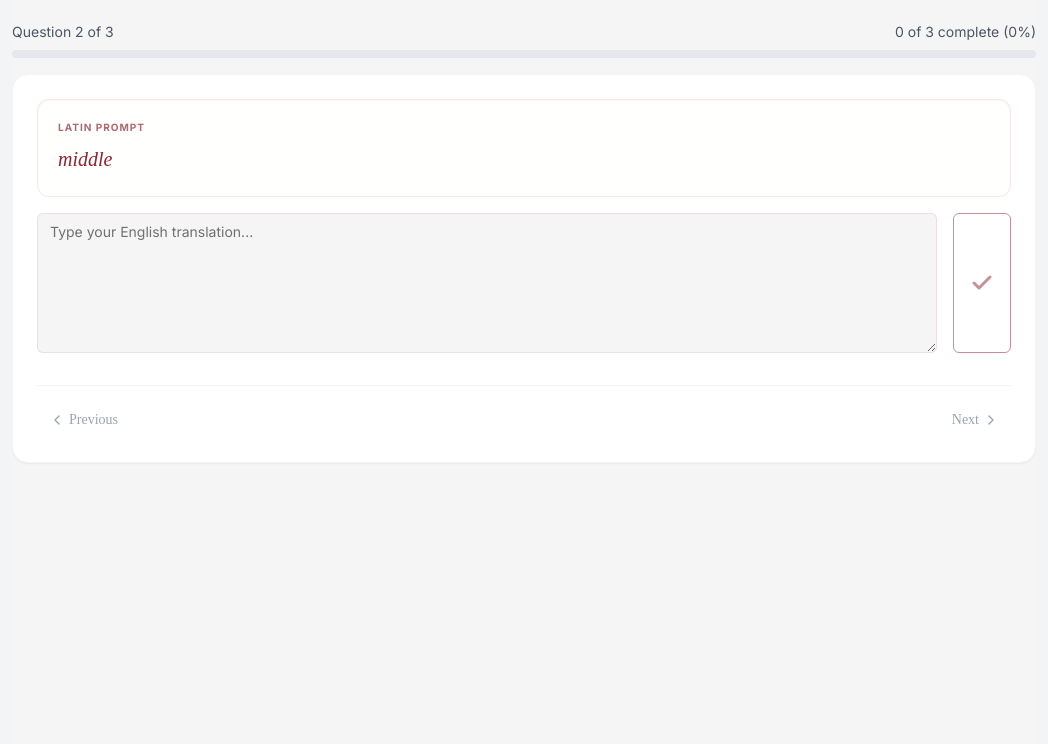
it: exercise start over flow › locks translation grading navigation and shows Start over at threshold
The image size is (1048, 744).
Expected: the button "Previous" is enabled, [37,402,130,438]
Expected: the button "Next" is enabled, [940,402,1011,438]
Type "wrong one" into the text box with placeholder "Type your English translation...". click: (487, 282)
box: [37,212,937,352]
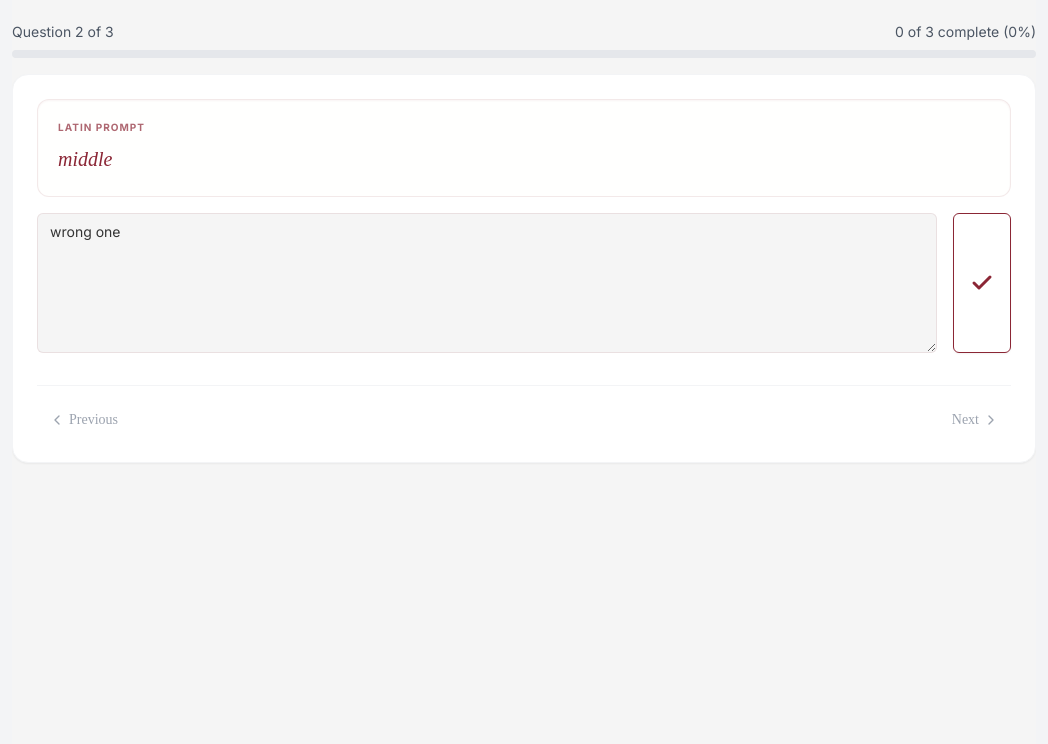
Click the button titled "Check Translation". click: (982, 282)
box: [953,212,1011,352]
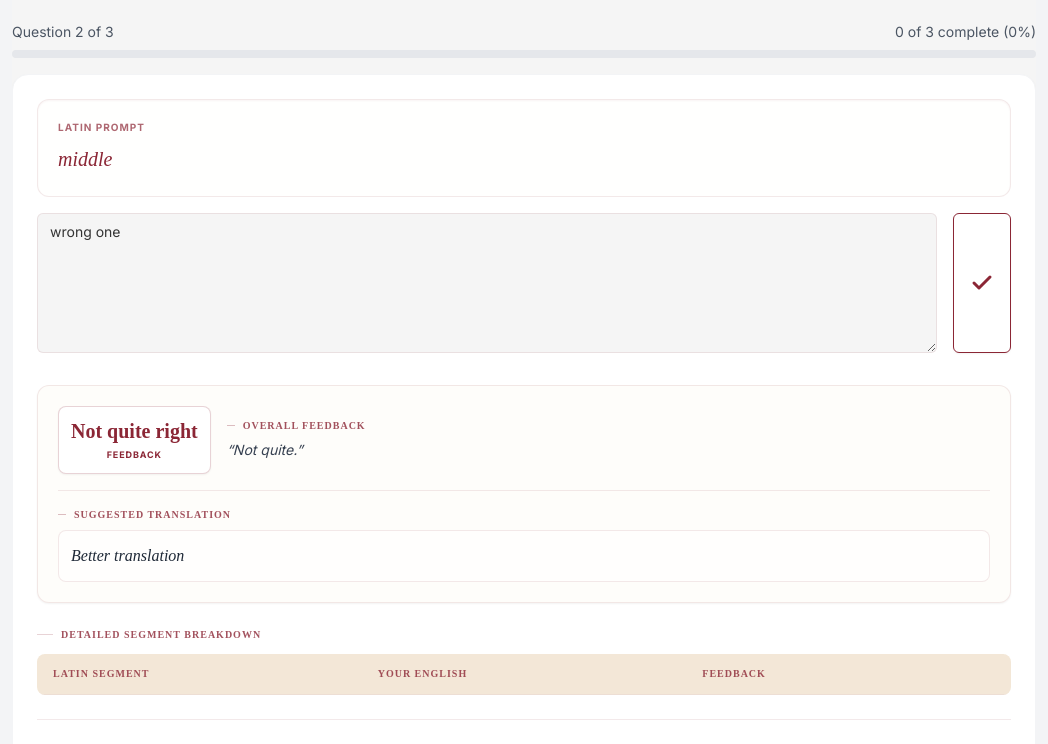
Expected: the text "Not quite right" is shown, [71,418,198,444]
Replace the text in the text box with placeholder "Type your English translation..." with "wrong two". click: (487, 282)
box: [37,212,937,352]
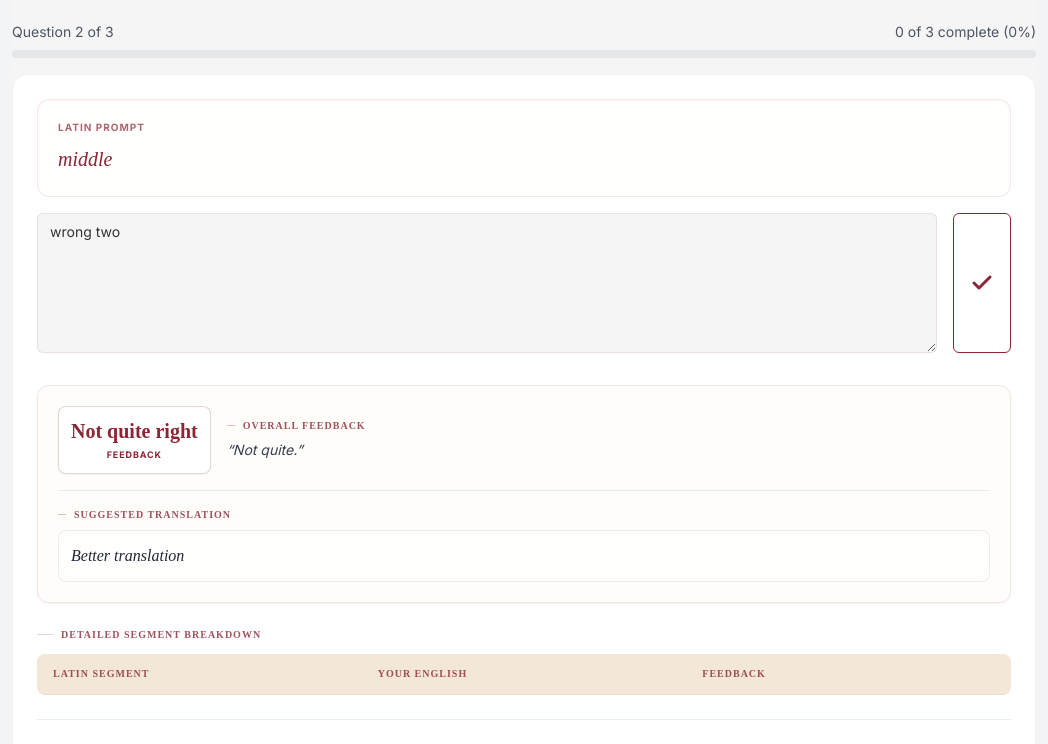
Click the button titled "Check Translation". click: (982, 282)
box: [953,212,1011,352]
(page scrolled)
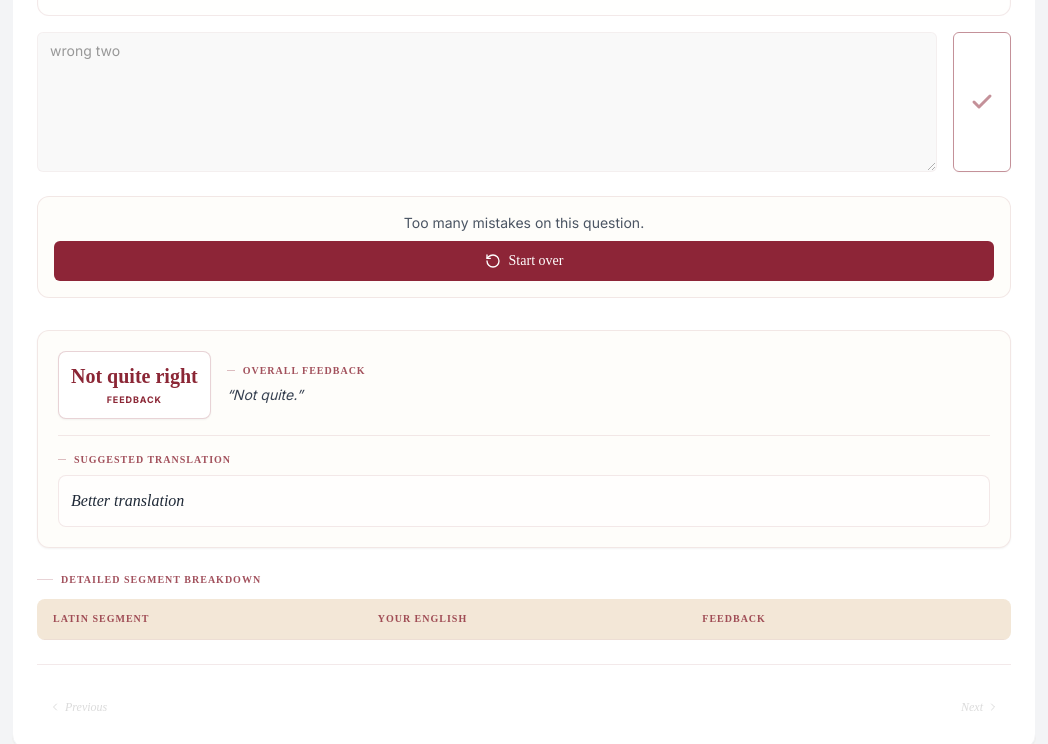
Expected: the button "Start over" is shown, [54,240,994,280]
Expected: the button "Previous" is disabled, [37,688,119,724]
Expected: the button "Next" is disabled, [949,688,1011,724]
